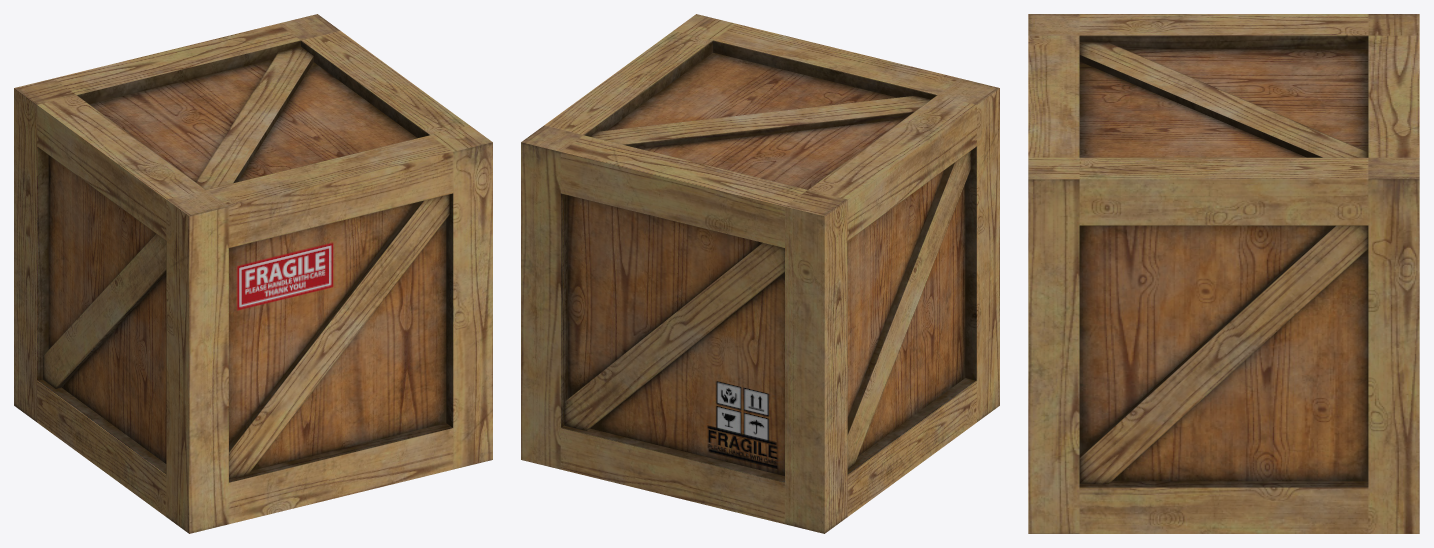
File: Wooden Box FBX.fbx
The picture shows the model from 3 angles, left to right: view 1: azimuth 30°, elevation 25°; view 2: azimuth 150°, elevation 25°; view 3: azimuth 270°, elevation 25°; orthographic projection. The views are drawn at different scales.
Parts seen in each view (by area): view 1: Wooden_Box; view 2: Wooden_Box; view 3: Wooden_Box.
Boxes of the visible parts, left/top/right/bottom form: Wooden_Box: left=14, top=14, right=492, bottom=533; Wooden_Box: left=521, top=14, right=999, bottom=533; Wooden_Box: left=1028, top=14, right=1419, bottom=533.
Bounding box in the file's own units: 26 × 26 × 26.
